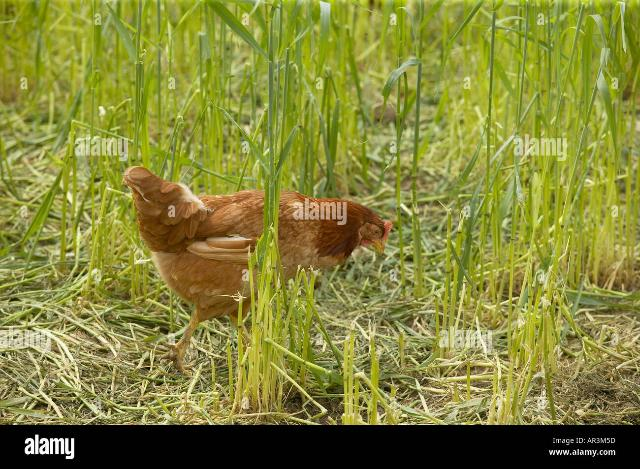Chicken: (122, 166, 393, 360)
